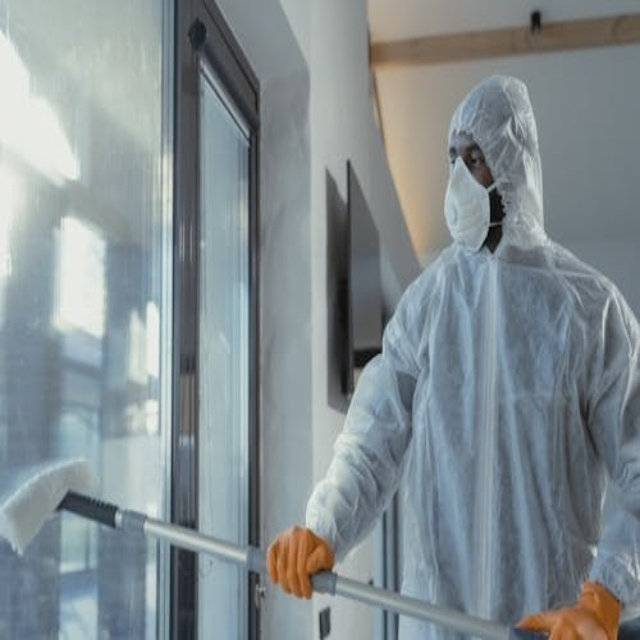Guantes: (507, 569, 627, 636), (265, 517, 330, 598)
Mascara: (443, 157, 497, 253)
Sin_gafas: (443, 138, 485, 175)
